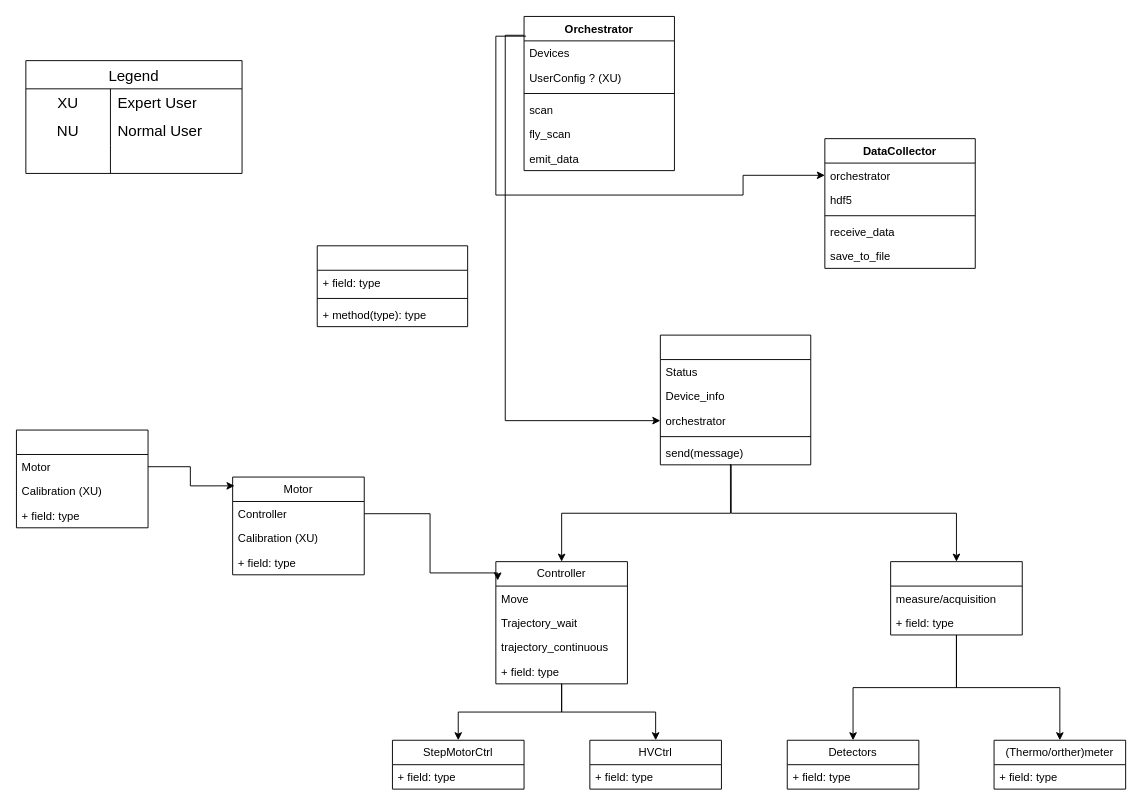
Image size: 1142x808. Some labels were removed from this diagram. Here are the shapes that lost their labels. From the top down, the box of each, then its label:
(316, 245, 468, 327): Classname
(659, 334, 811, 465): DeviceInterface
(16, 429, 148, 528): PseudoMotor
(890, 561, 1022, 635): Sensors
